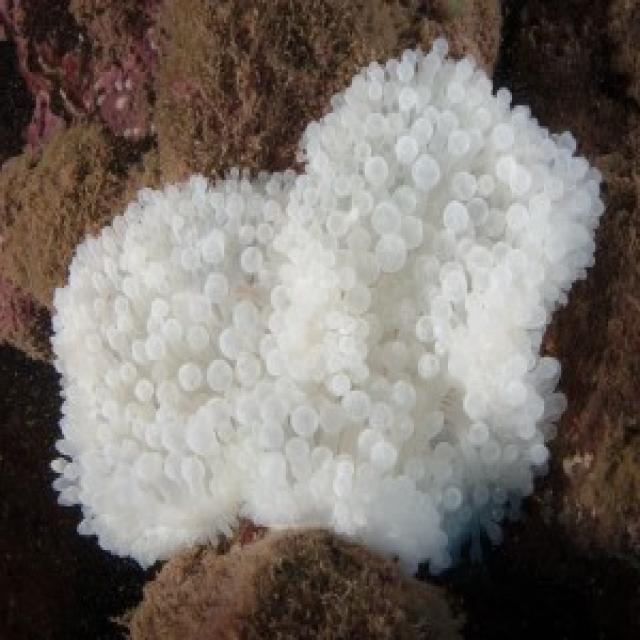Bleached: (53, 46, 607, 568)
Healthy: (1, 1, 297, 156), (95, 528, 466, 640), (589, 245, 636, 549)
